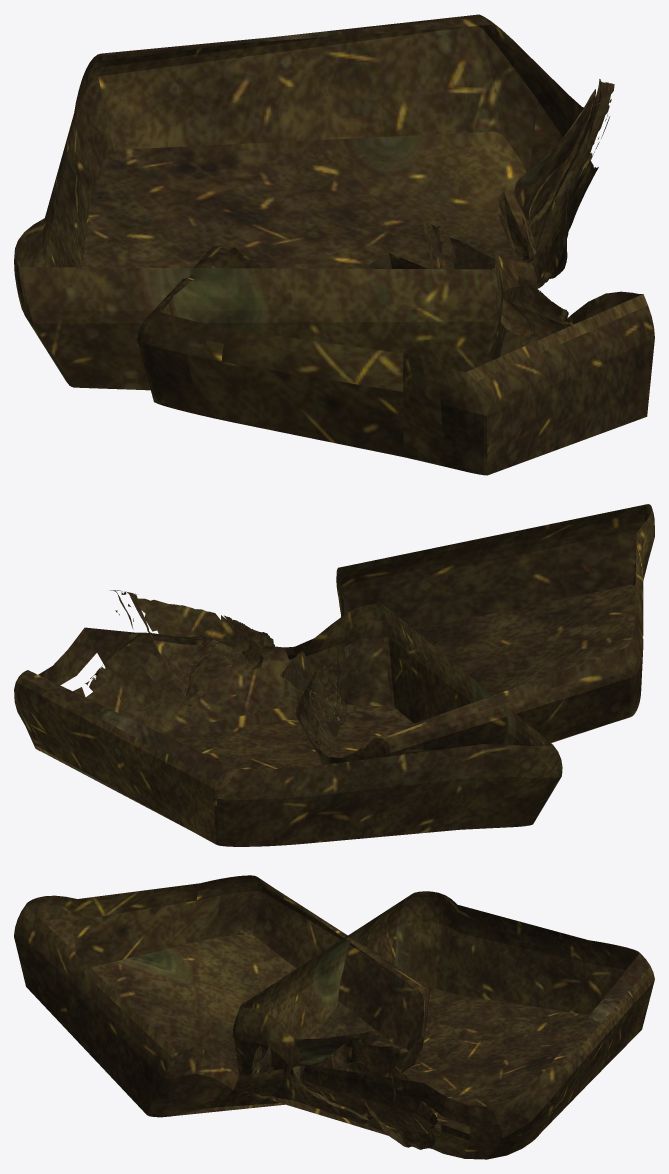
The model's file is GrassTerrain_004_Mud_A_v3.glb.
The picture shows the model from 3 angles, top to bottom: view 1: azimuth 30°, elevation 25°; view 2: azimuth 150°, elevation 25°; view 3: azimuth 270°, elevation 25°; orthographic projection. The views are drawn at different scales.
Visible parts, largest first — view 1: 立方体.004_Mud_A; view 2: 立方体.004_Mud_A; view 3: 立方体.004_Mud_A.
Boxes of the visible parts, x1,y1,x2,y2 form: 立方体.004_Mud_A: (14,14,654,475); 立方体.004_Mud_A: (14,504,654,846); 立方体.004_Mud_A: (14,875,654,1159).
Size of the model in its own units: 762 by 265 by 1012.
1 material, 1 textured.
